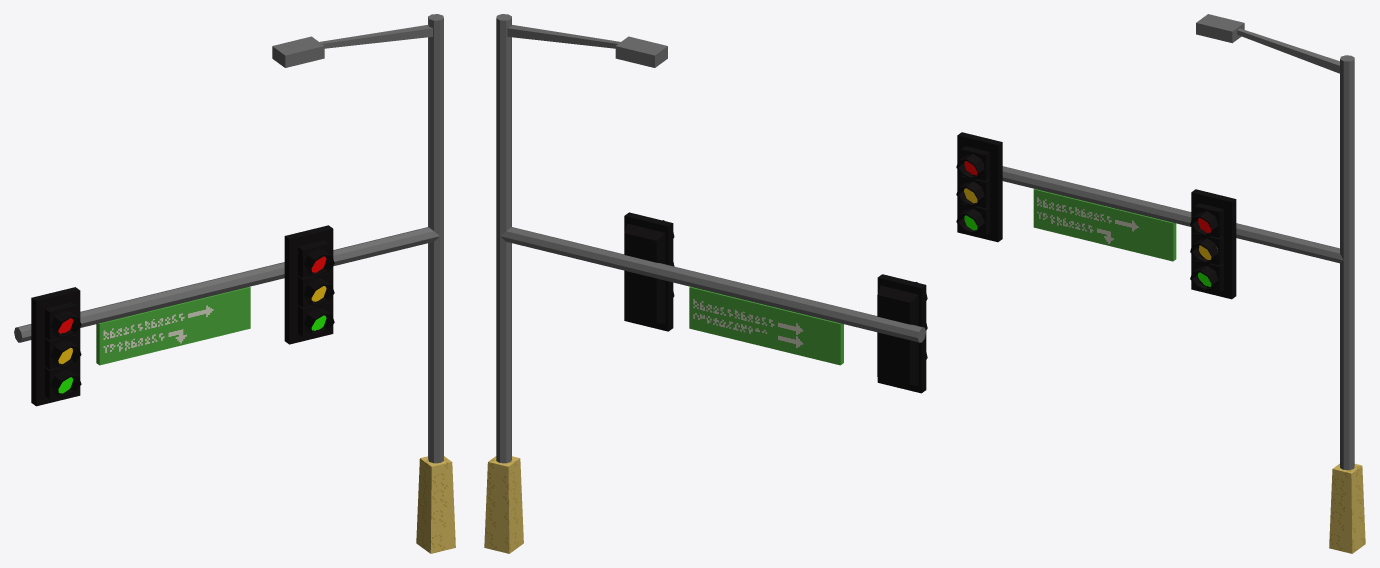
Rendered from TrafficLight.fbx.
3 renders of one model, left to right at view 1: azimuth 30°, elevation 25°; view 2: azimuth 150°, elevation 25°; view 3: azimuth 330°, elevation 25°, orthographic. The views are drawn at different scales.
Parts seen in each view (by area): view 1: TrafficLight; view 2: TrafficLight; view 3: TrafficLight.
Part boxes in pixels (x1,y1,x2,y2): TrafficLight: (14, 14, 455, 553); TrafficLight: (484, 14, 927, 553); TrafficLight: (956, 14, 1365, 553).
Bounding box in the file's own units: 10.92 × 12.92 × 1.36.
